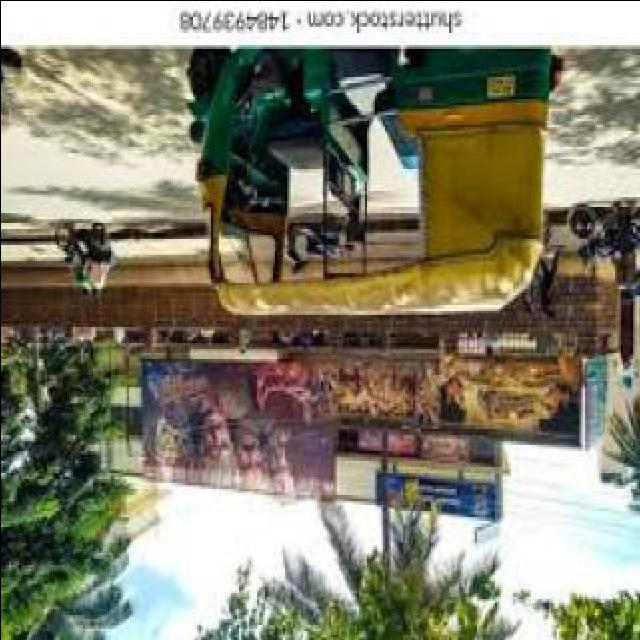Autorickshaw: (162, 48, 572, 324)
